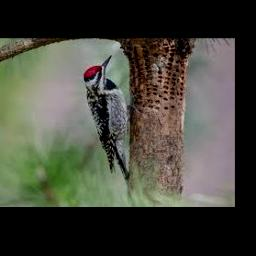Woodpecker: (84, 54, 131, 183)
